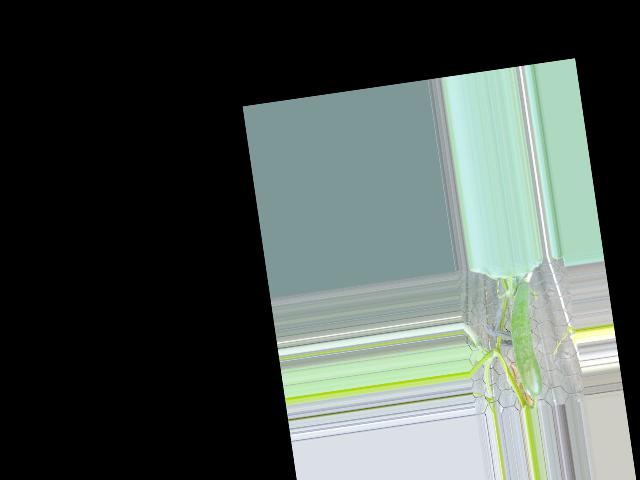cucumber: (503, 282, 544, 398)
